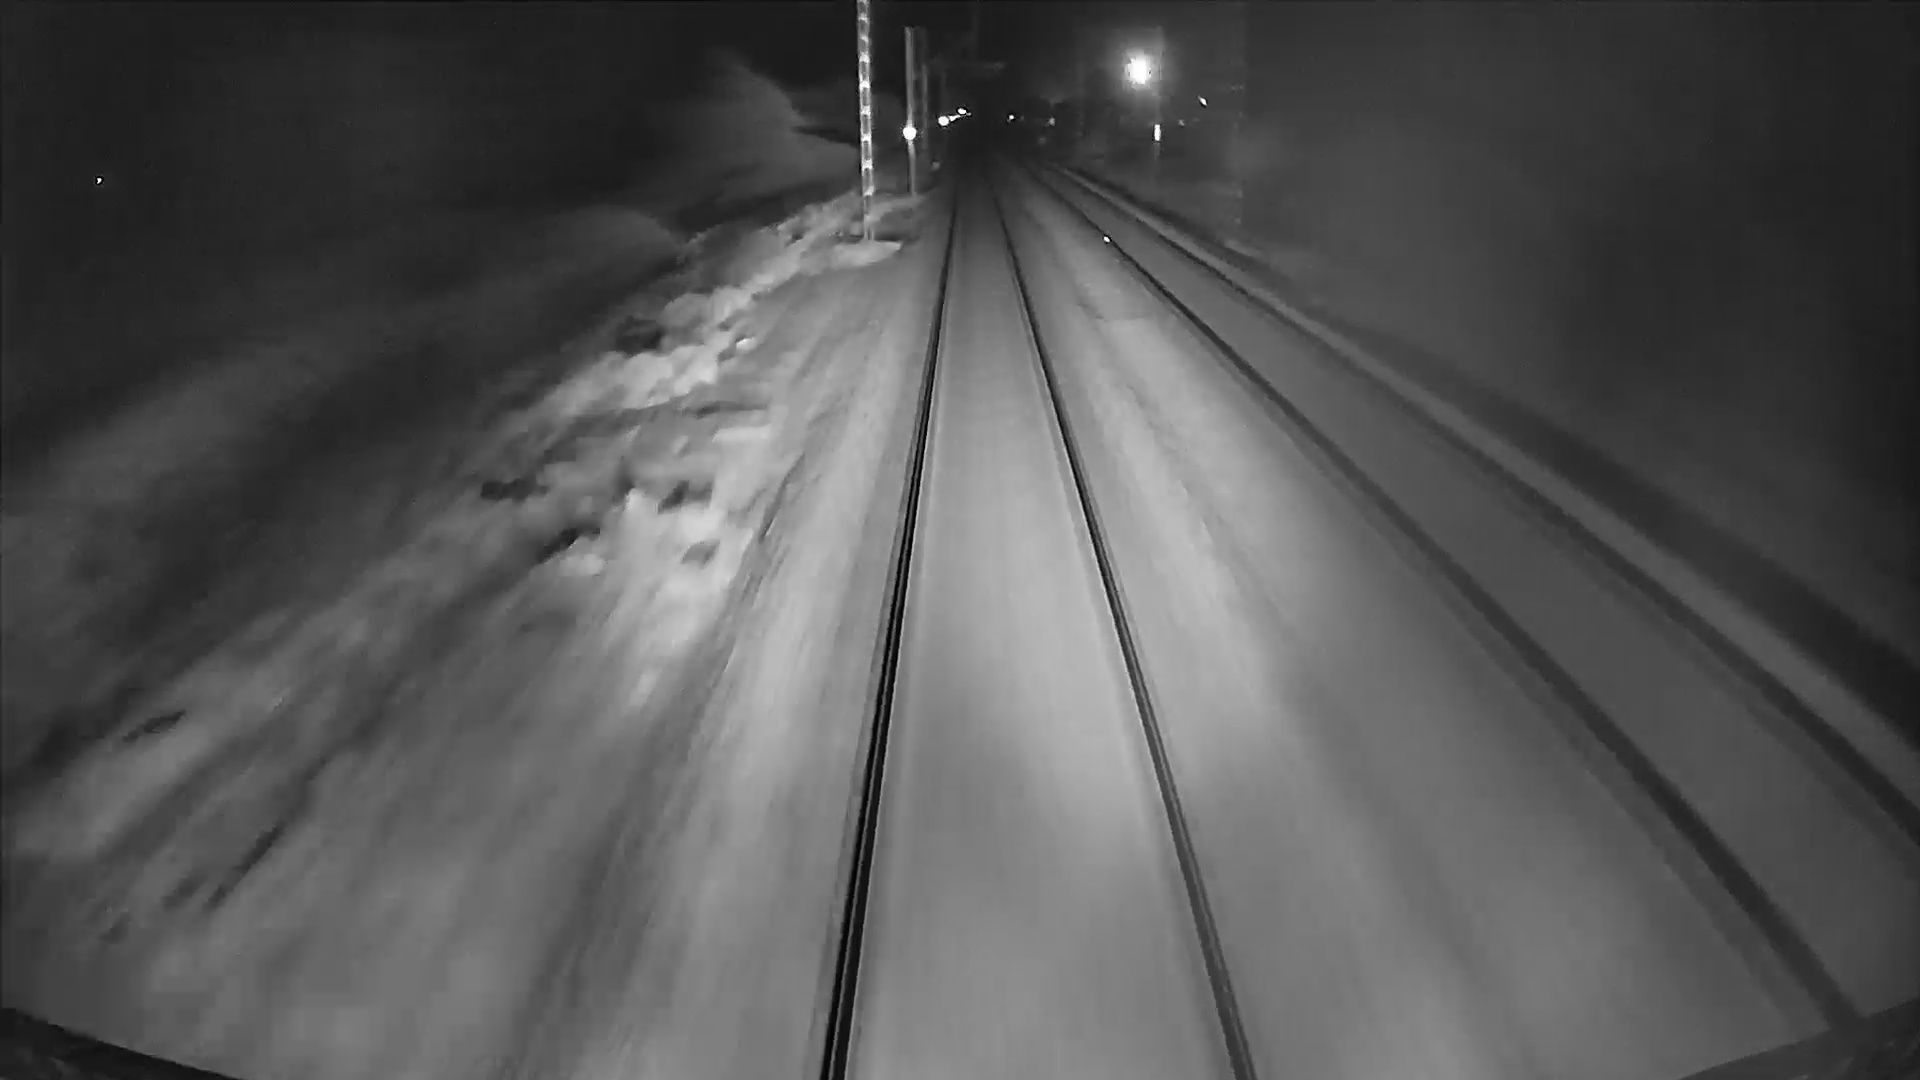track1: (840, 160, 1246, 1062)
track2: (1048, 182, 1907, 996)
